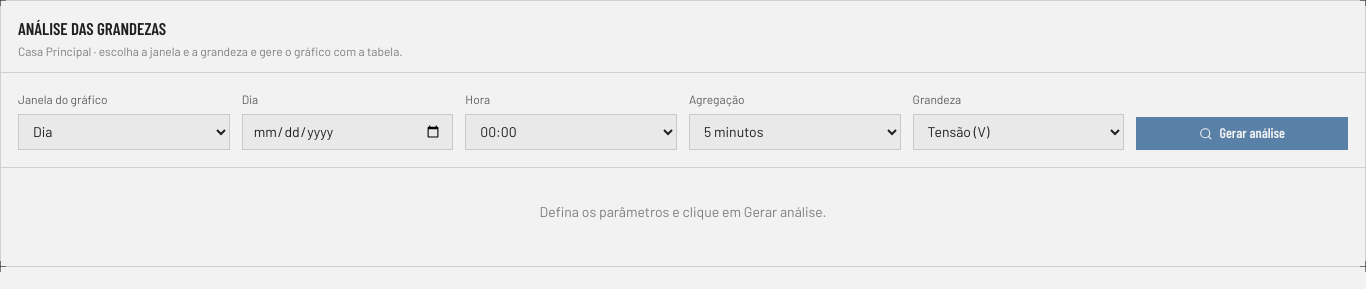
Test: SeriesAnalysisSection › erro na busca mostra mensagem genérica, não trava em 'Carregando'
Type "2026-01-15" into the date field labelled "Dia" at (348, 132), box [242,114,453,150]
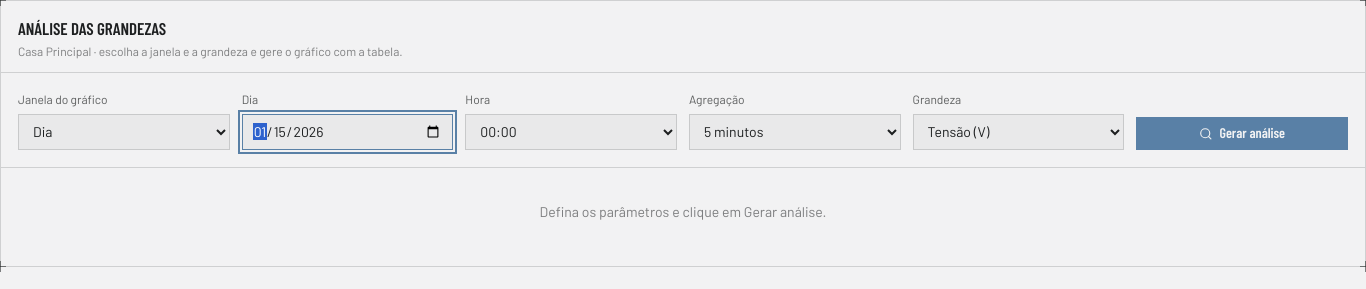
Click the button "Gerar análise" at (1242, 134), box [1136,117,1348,150]
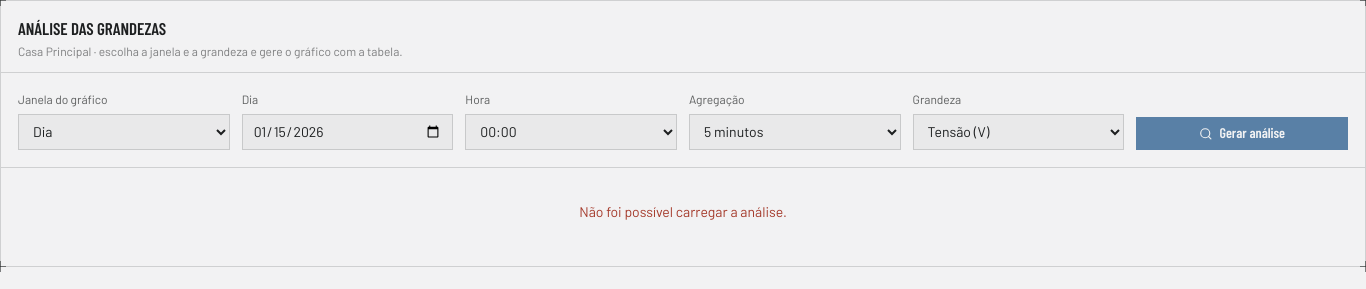
expect the message reads "Não foi possível carregar a análise.": met, box [579,203,787,220]
